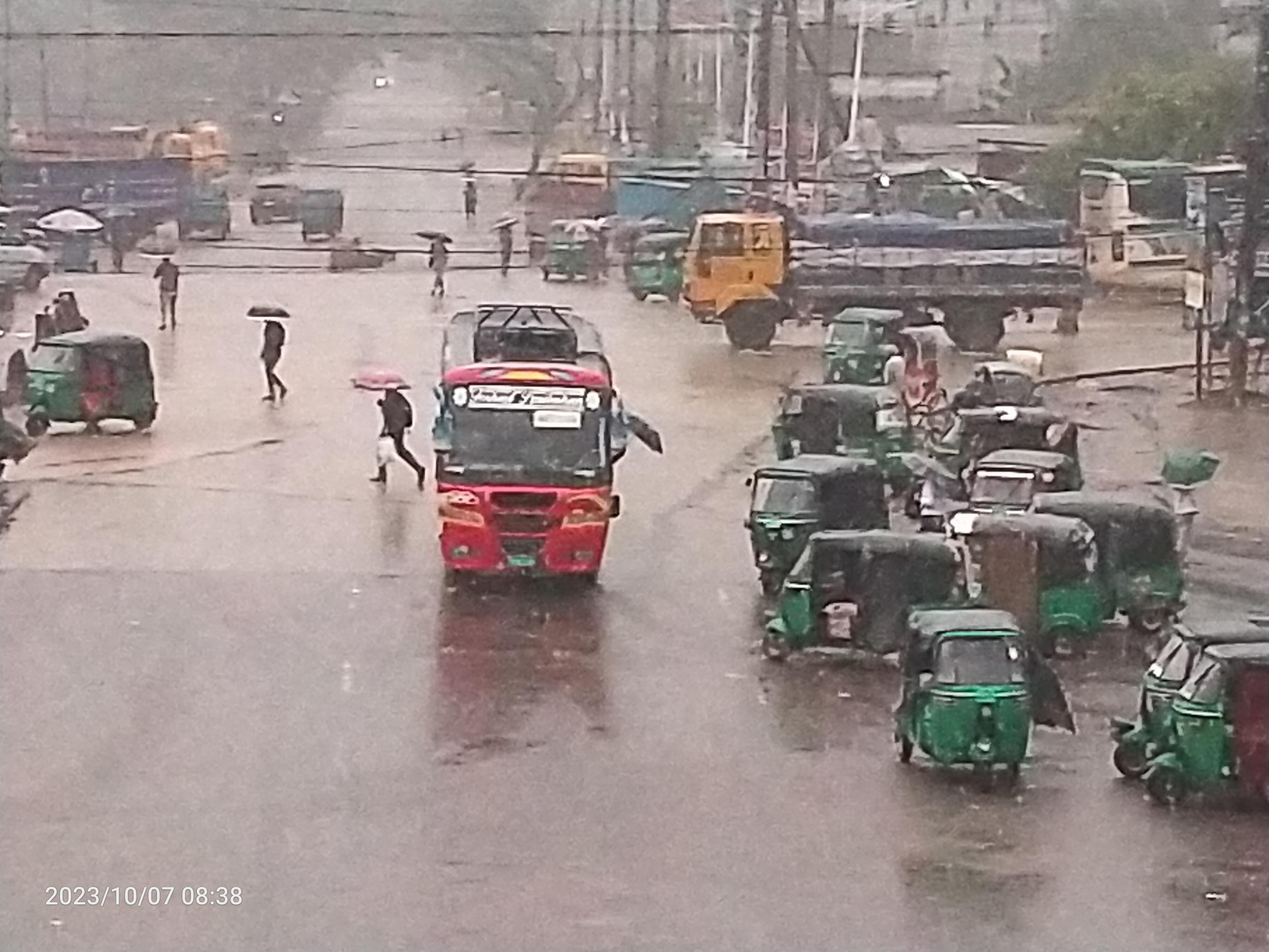Bus: (408, 269, 696, 650), (1053, 119, 1269, 334)
Truck: (659, 166, 1086, 362), (0, 119, 202, 251), (532, 140, 789, 207)
